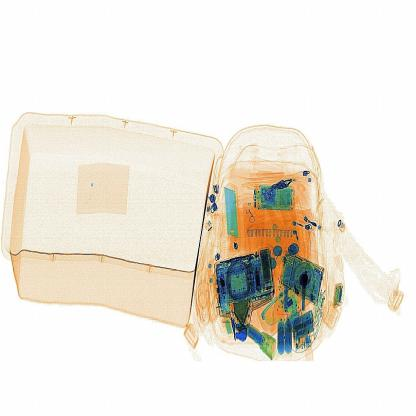pliers: (221, 176, 249, 257)
